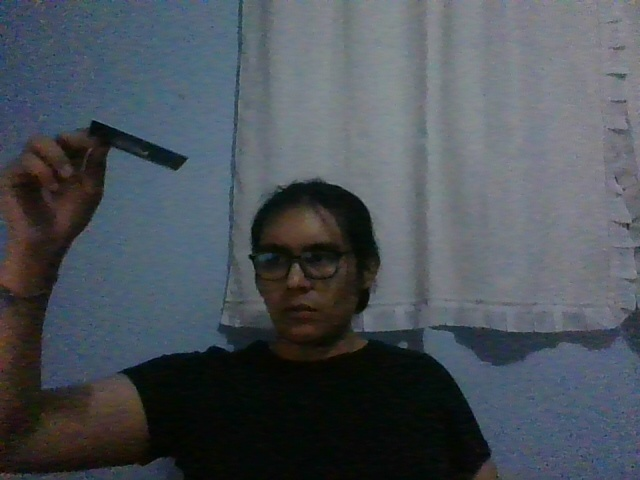tarjeta: (87, 119, 189, 171)
